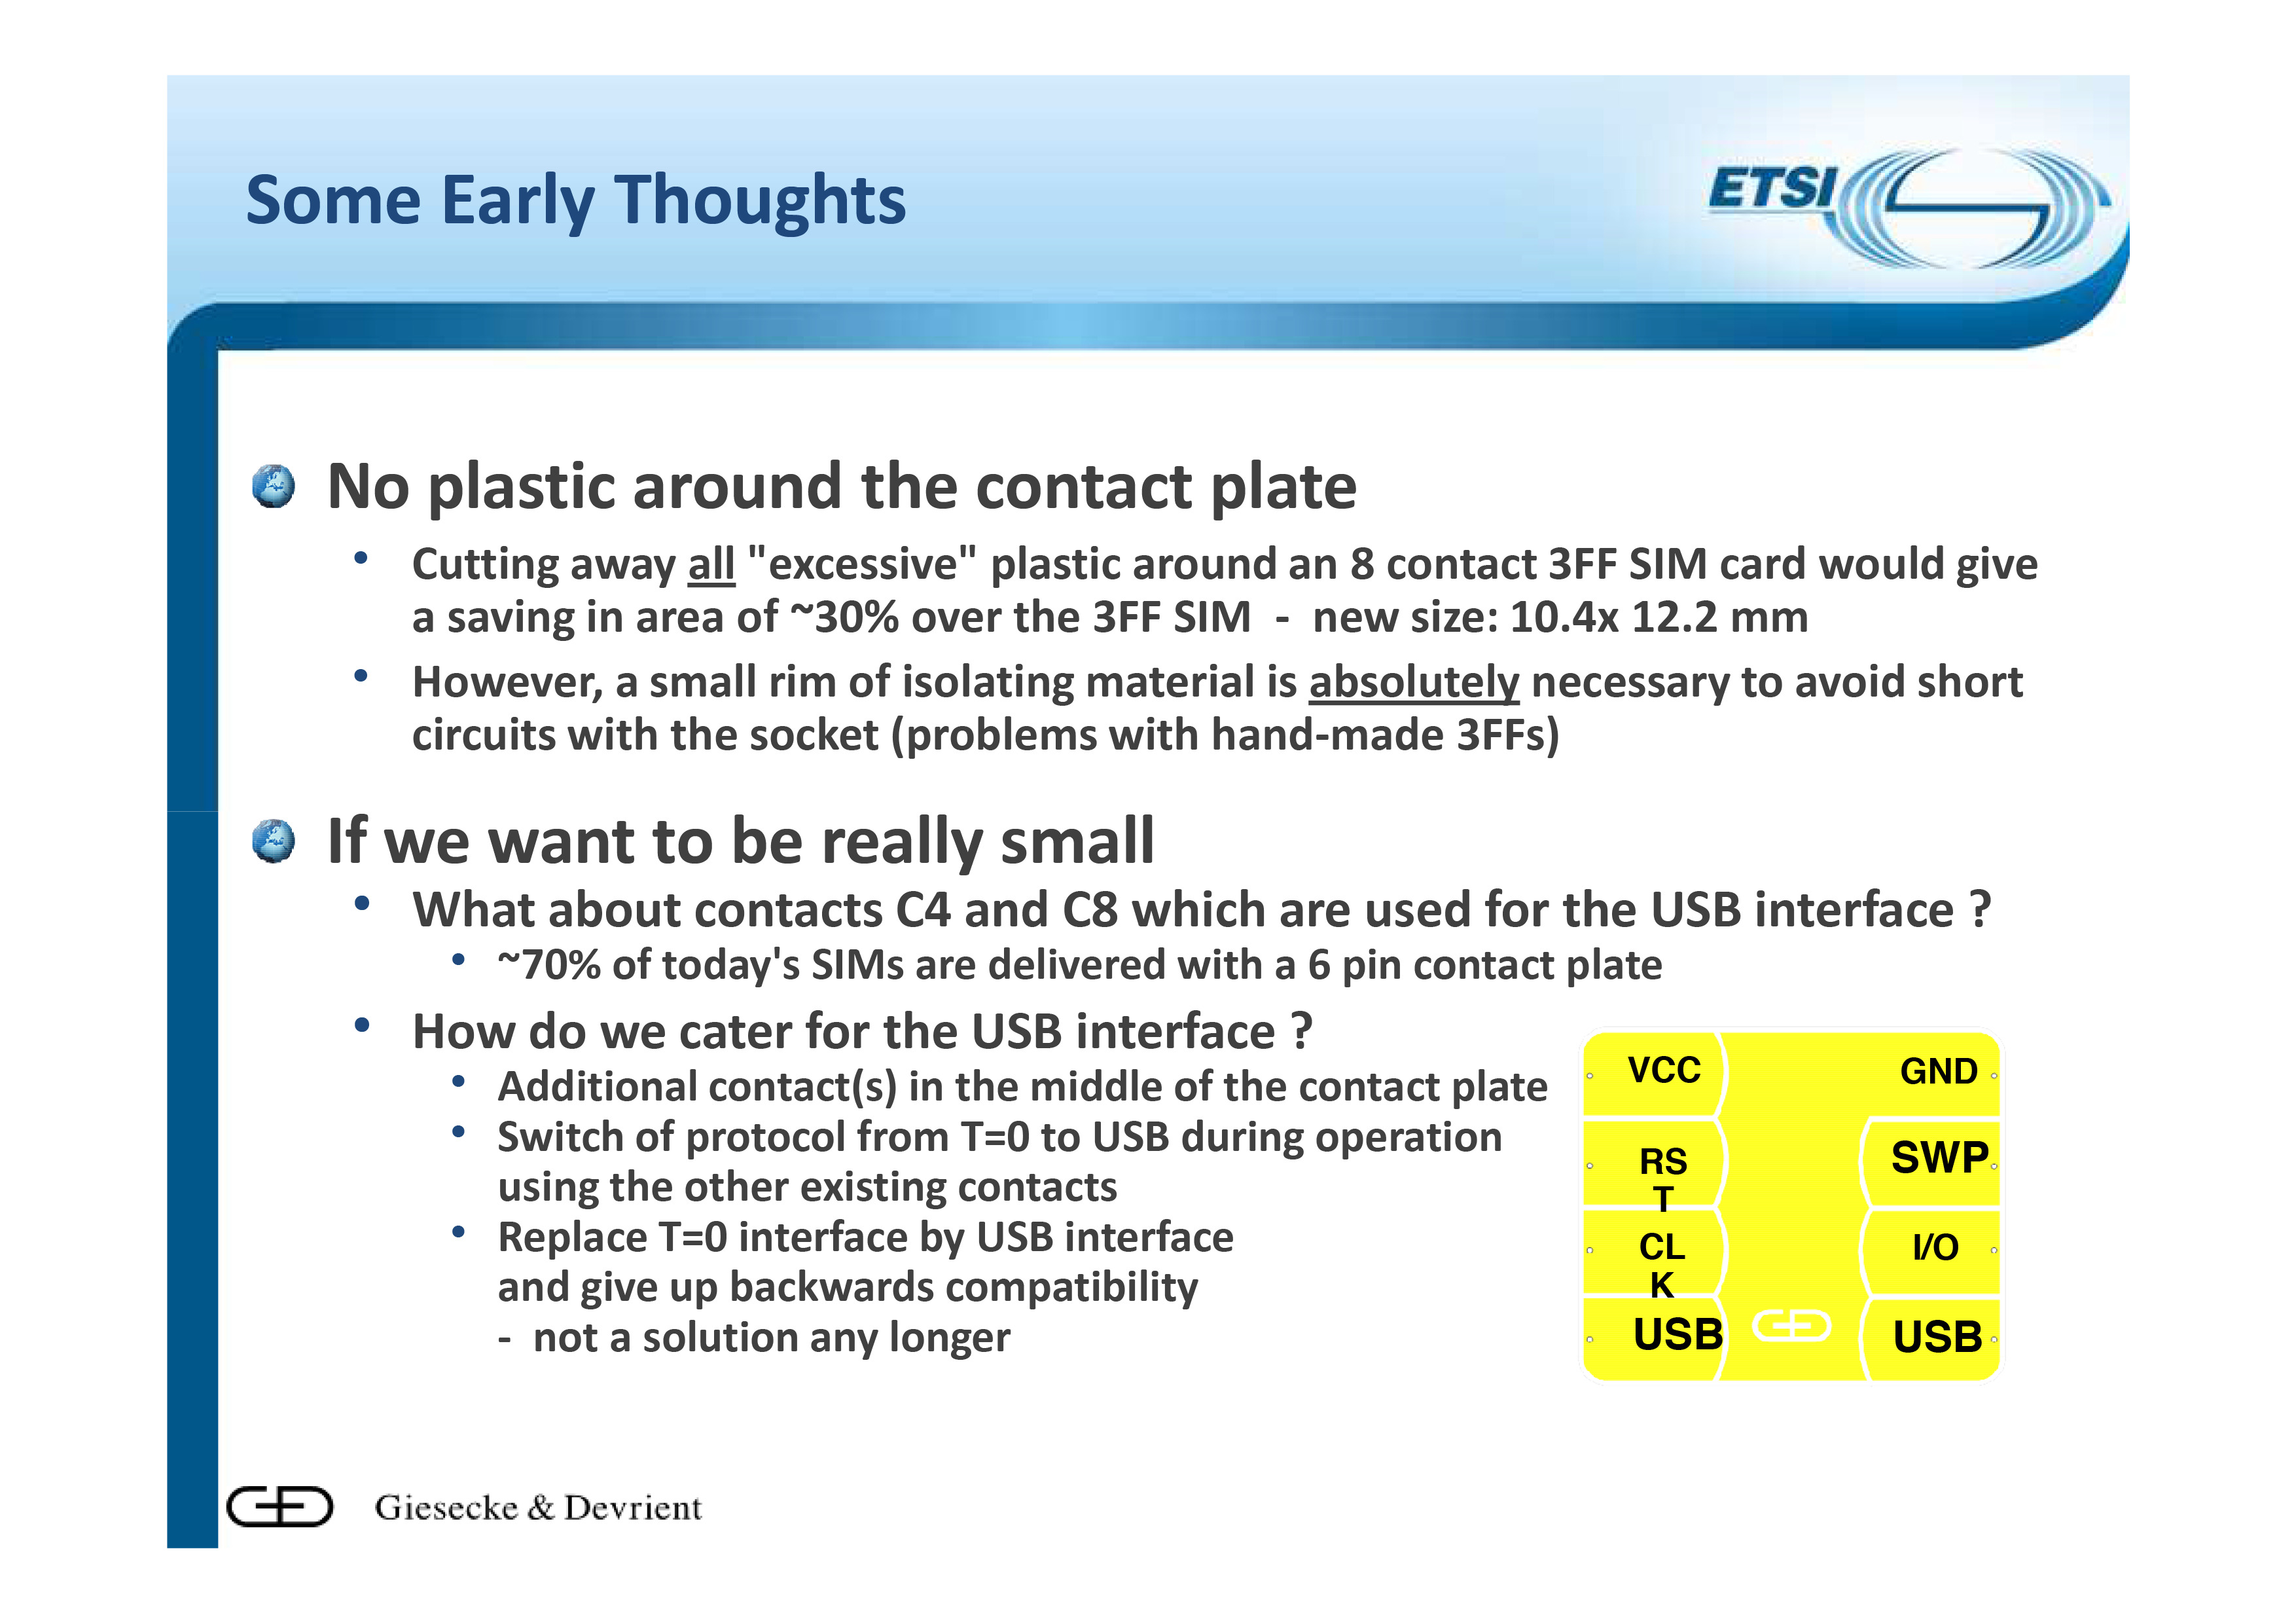figure: (1585, 1031, 2006, 1384), (1729, 139, 2115, 276), (228, 1482, 335, 1535)
section: (253, 460, 1359, 520), (235, 162, 922, 248), (253, 813, 1162, 864)
text: (400, 659, 2026, 755), (409, 543, 2036, 625), (495, 1115, 1508, 1198), (405, 885, 1994, 936), (495, 1223, 1229, 1303), (502, 949, 1662, 987), (500, 1070, 1545, 1108), (407, 1013, 1322, 1056), (528, 1328, 1022, 1368), (379, 1495, 711, 1530)
